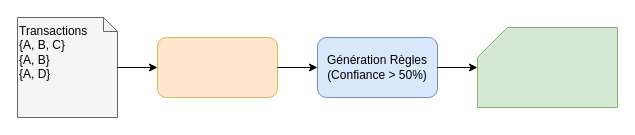
Image size: 635x135. Some labels were removed from this diagram. The centre of each missing label's shape, as x and y in pixels:
"Itemsets Fréquents (Support > 1%)" belongs at point 217,67.
"Règle Finale : Si {A} -> Alors {B} (Conf: 100%, Lift: 2.0)" belongs at point 547,67.
